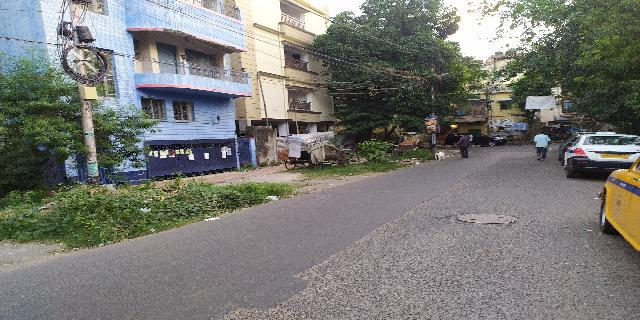Car: (592, 140, 640, 267), (562, 130, 640, 175)
